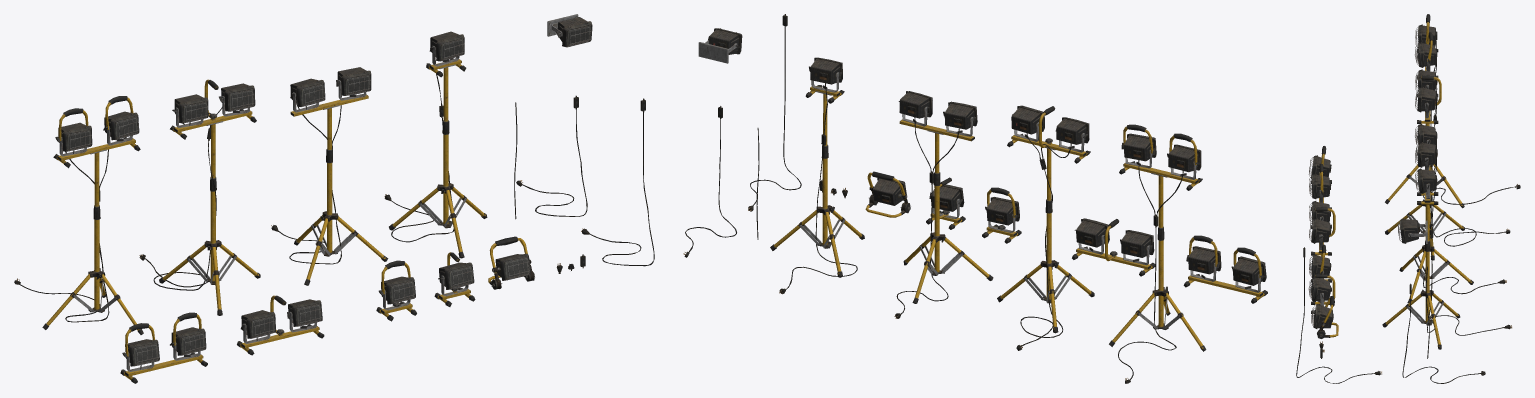
The model's file is flood_lights.gltf.
3 views of the same model, side by side, from view 1: azimuth 30°, elevation 25°; view 2: azimuth 150°, elevation 25°; view 3: azimuth 270°, elevation 25° (orthographic). The views are drawn at different scales.
Visible parts, largest first — view 1: object 1, flood_lights_standing_single_stand, flood_lights_standing_double_c_stand, flood_lights_standing_double_b_stand, flood_lights_standing_double_a_stand, flood_lights_standing_double_c_light_02, flood_lights_standing_single_light, flood_lights_standing_double_b_light_01, flood_lights_standing_double_a_bar, flood_lights_floor_double_b_light_01, flood_lights_standing_double_c_light_01, flood_lights_floor_double_b_light_02 (+8 smaller); view 2: object 1, flood_lights_standing_single_stand, flood_lights_standing_double_c_stand, flood_lights_standing_double_b_stand, flood_lights_standing_double_a_stand, flood_lights_standing_double_a_bar, flood_lights_standing_double_c_light_01, flood_lights_floor_double_b_light_01, flood_lights_standing_double_b_light_01, flood_lights_standing_single_light, flood_lights_standing_double_c_light_02, flood_lights_floor_double_a_light_01 (+9 smaller); view 3: object 1, flood_lights_standing_single_stand, flood_lights_standing_double_c_stand, flood_lights_standing_double_b_stand, flood_lights_standing_double_c_light_02, flood_lights_floor_single_b_light, flood_lights_standing_single_light, flood_lights_floor_double_b_light_02, flood_lights_standing_double_a_stand, flood_lights_standing_double_a_light_02, flood_lights_floor_single_light_c, flood_lights_floor_double_a_light_02 (+6 smaller).
Part boxes in pixels (x1,y1,x2,y2): object 1: (14,14,654,322); flood_lights_standing_single_stand: (389,120,487,258); flood_lights_standing_double_c_stand: (294,148,388,285); flood_lights_standing_double_b_stand: (159,177,260,315); flood_lights_standing_double_a_stand: (42,205,143,334); flood_lights_standing_double_c_light_02: (336,67,371,95); flood_lights_standing_single_light: (429,31,464,61); flood_lights_standing_double_b_light_01: (172,94,208,123); flood_lights_standing_double_a_bar: (53,137,140,206); flood_lights_floor_double_b_light_01: (240,310,275,338); flood_lights_standing_double_c_light_01: (290,78,325,107); flood_lights_floor_double_b_light_02: (287,299,322,326); object 1: (683,14,1183,383); flood_lights_standing_single_stand: (770,144,864,277); flood_lights_standing_double_c_stand: (903,172,993,303); flood_lights_standing_double_b_stand: (997,199,1094,333); flood_lights_standing_double_a_stand: (1109,226,1206,351); flood_lights_standing_double_a_bar: (1119,161,1202,227); flood_lights_standing_double_c_light_01: (943,101,977,129); flood_lights_floor_double_b_light_01: (1120,230,1154,257); flood_lights_standing_double_b_light_01: (1055,117,1089,144); flood_lights_standing_single_light: (809,57,842,84); flood_lights_standing_double_c_light_02: (898,91,932,118); flood_lights_floor_double_a_light_01: (1232,256,1266,285); object 1: (1296,40,1520,383); flood_lights_standing_single_stand: (1382,240,1460,349); flood_lights_standing_double_c_stand: (1399,204,1473,303); flood_lights_standing_double_b_stand: (1385,199,1464,260); flood_lights_standing_double_c_light_02: (1415,142,1437,167); flood_lights_floor_single_b_light: (1308,277,1331,302); flood_lights_standing_single_light: (1415,168,1437,193); flood_lights_floor_double_b_light_02: (1309,218,1331,243); flood_lights_standing_double_a_stand: (1385,114,1464,208); flood_lights_standing_double_a_light_02: (1414,42,1437,67); flood_lights_floor_single_light_c: (1311,304,1333,328); flood_lights_floor_double_a_light_02: (1309,174,1331,199).
Size of the model in its own units: 4.6 by 1.81 by 2.11.
2 materials, 2 textured.
